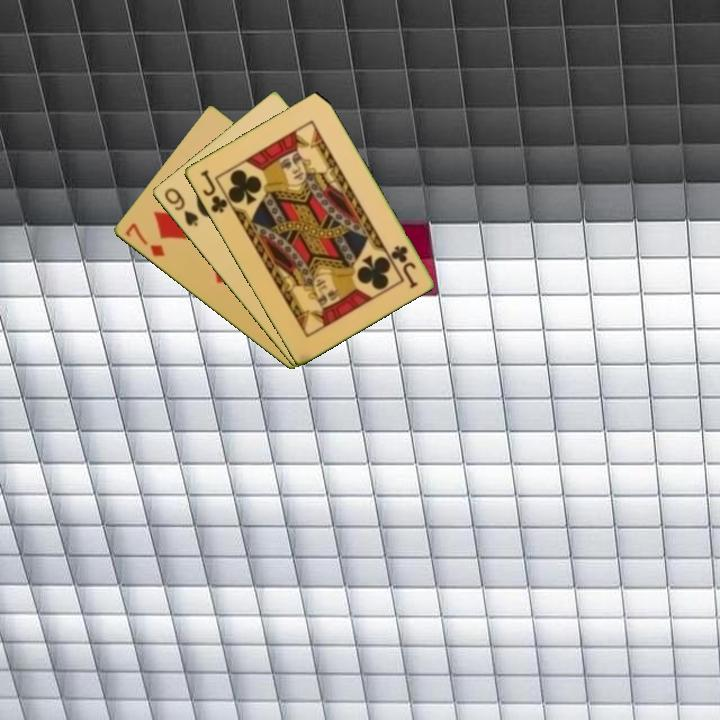7d: (121, 219, 168, 260)
9s: (160, 184, 201, 230)
Jc: (197, 166, 230, 216), (387, 242, 420, 291)
